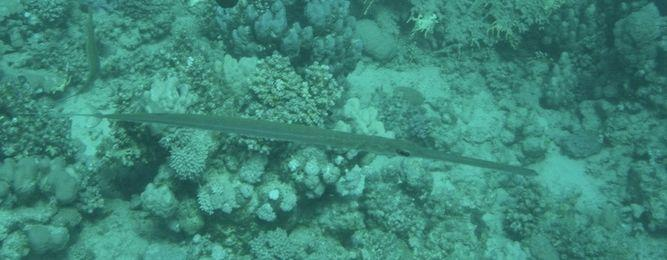Fistularia commersonii: (66, 106, 540, 178)
